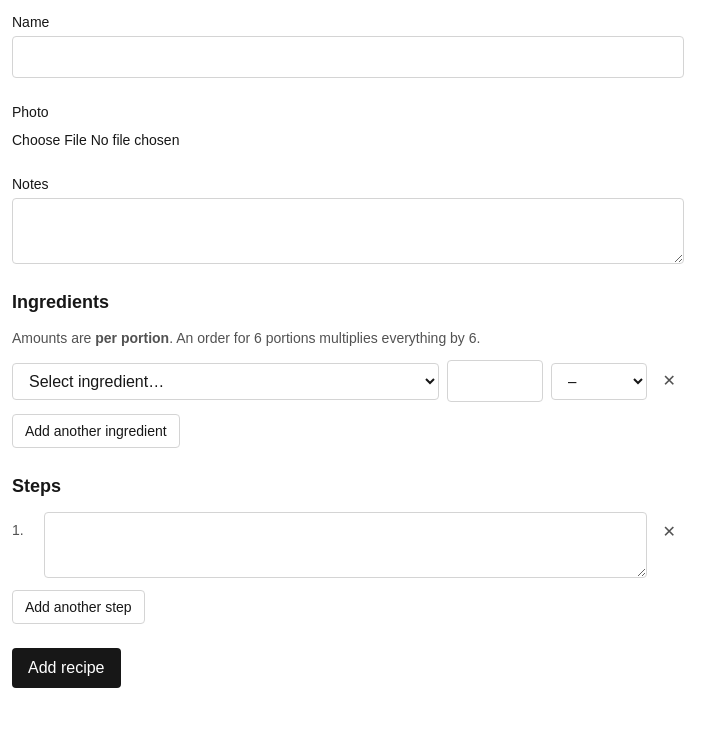
Test case: RecipeForm › shows the errors the action returns, against the right row
Type "Something" into the field labelled "Name".
click(348, 57); type("Something")  # box x1=12 y1=36 x2=684 y2=78
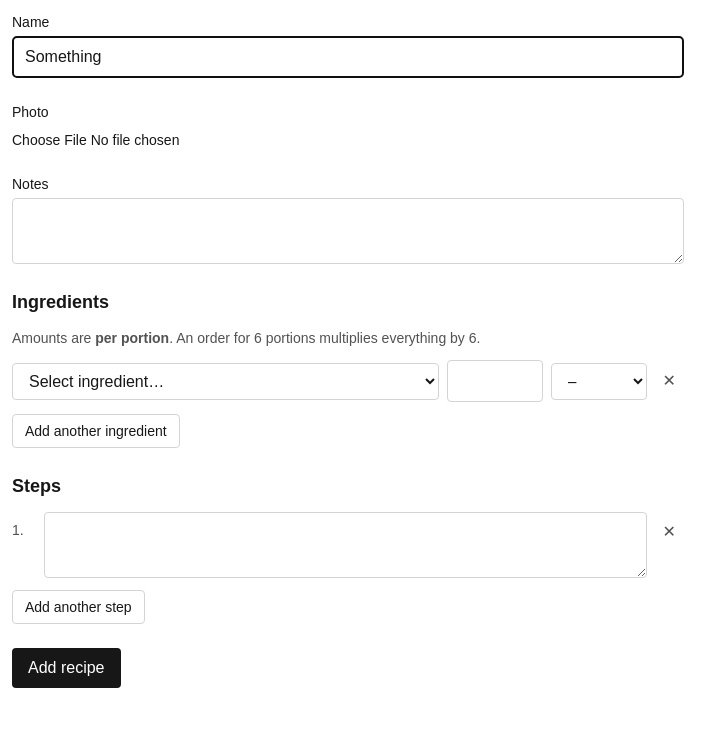
Click the button "Add recipe".
click(66, 668)  # box x1=12 y1=648 x2=120 y2=688
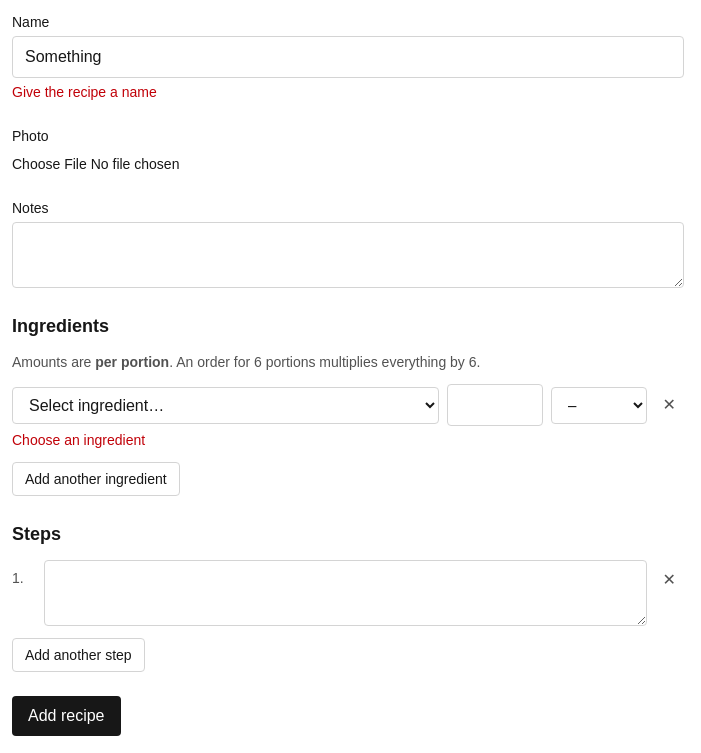
Expected: the text "Give the recipe a name" is shown, x1=12 y1=84 x2=157 y2=100
Expected: the text "Choose an ingredient" is shown, x1=12 y1=432 x2=145 y2=448
